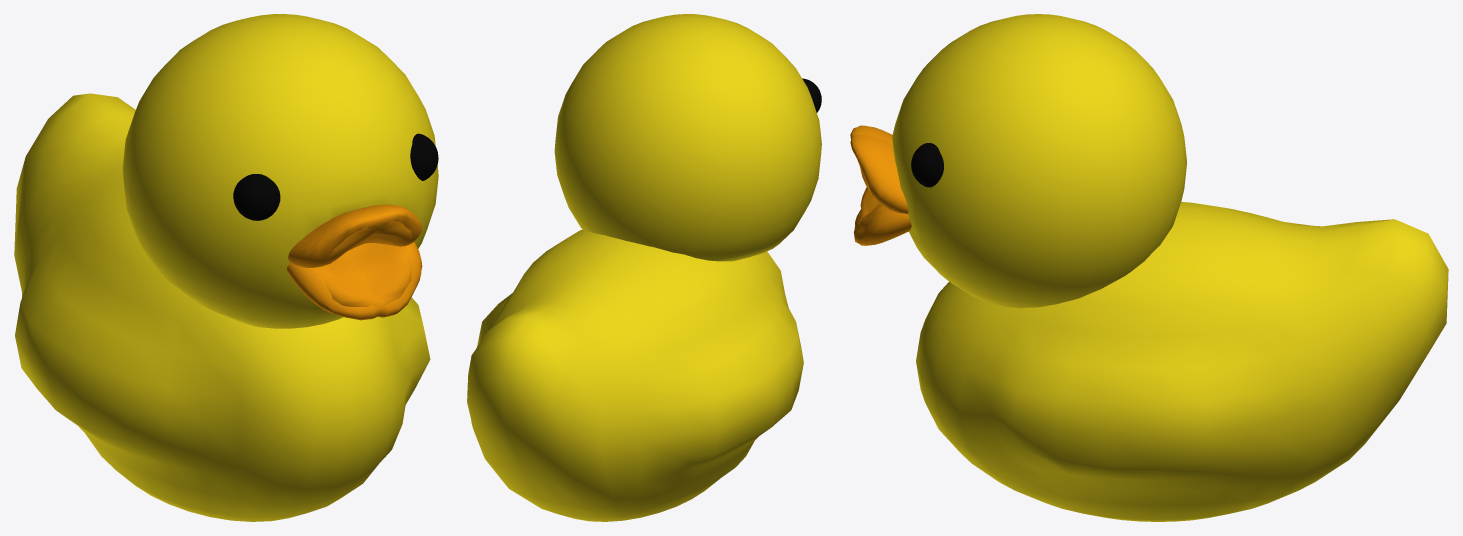
File: ducky.fbx
3 renders of one model, left to right at view 1: azimuth 30°, elevation 25°; view 2: azimuth 150°, elevation 25°; view 3: azimuth 270°, elevation 25°, orthographic. The views are drawn at different scales.
Visible parts, largest first — view 1: body, head, mouth, eyes; view 2: body, head; view 3: body, head, mouth, eyes.
Part boxes in pixels (x1,y1,x2,y2): body: (14, 93, 430, 521); head: (122, 14, 438, 328); mouth: (287, 204, 422, 320); eyes: (233, 133, 438, 220); body: (467, 229, 803, 521); head: (554, 14, 821, 261); body: (916, 202, 1448, 521); head: (892, 14, 1187, 308); mouth: (850, 125, 911, 245); eyes: (911, 143, 943, 187).
Bounding box in the file's own units: 225 × 329 × 373.
